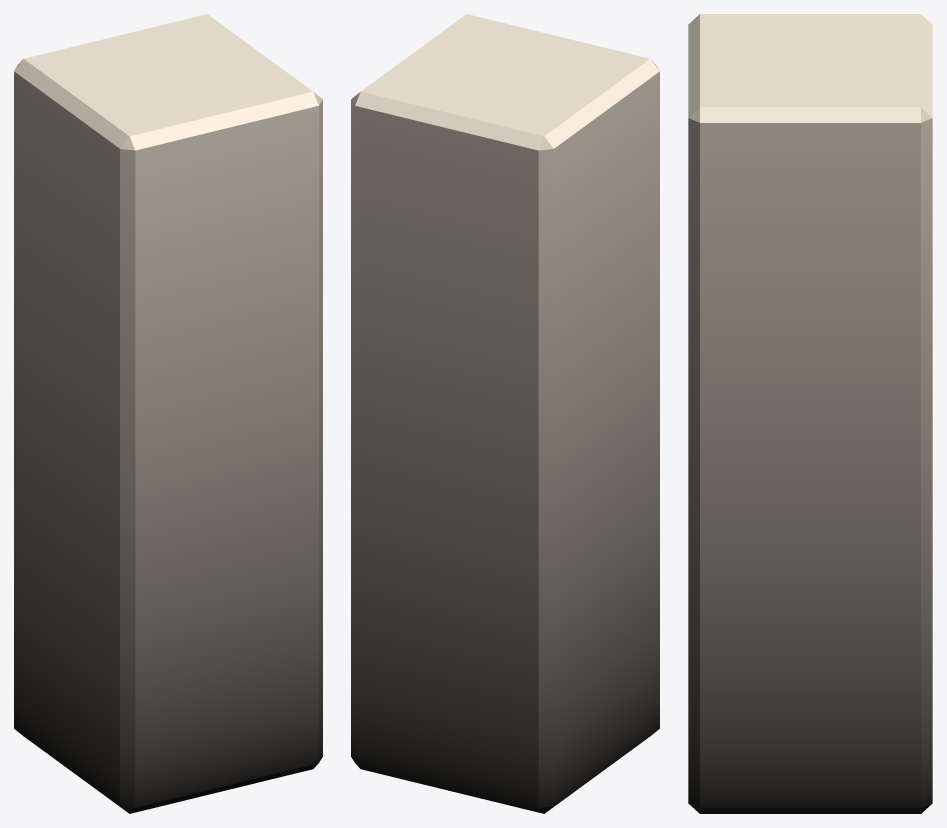
The model's file is SM_VKI_Post_Board_Corner_Cut.fbx.
3 renders of one model, left to right at view 1: azimuth 30°, elevation 25°; view 2: azimuth 150°, elevation 25°; view 3: azimuth 270°, elevation 25°, orthographic. The views are drawn at different scales.
Visible parts, largest first — view 1: SM_VKI_Post_Board_Corner_Cut.001; view 2: SM_VKI_Post_Board_Corner_Cut.001; view 3: SM_VKI_Post_Board_Corner_Cut.001.
Part boxes in pixels (x1,y1,x2,y2): SM_VKI_Post_Board_Corner_Cut.001: (14,14,322,813); SM_VKI_Post_Board_Corner_Cut.001: (351,14,659,813); SM_VKI_Post_Board_Corner_Cut.001: (688,14,932,813).
Size of the model in its own units: 0.42 by 1.34 by 0.42.
